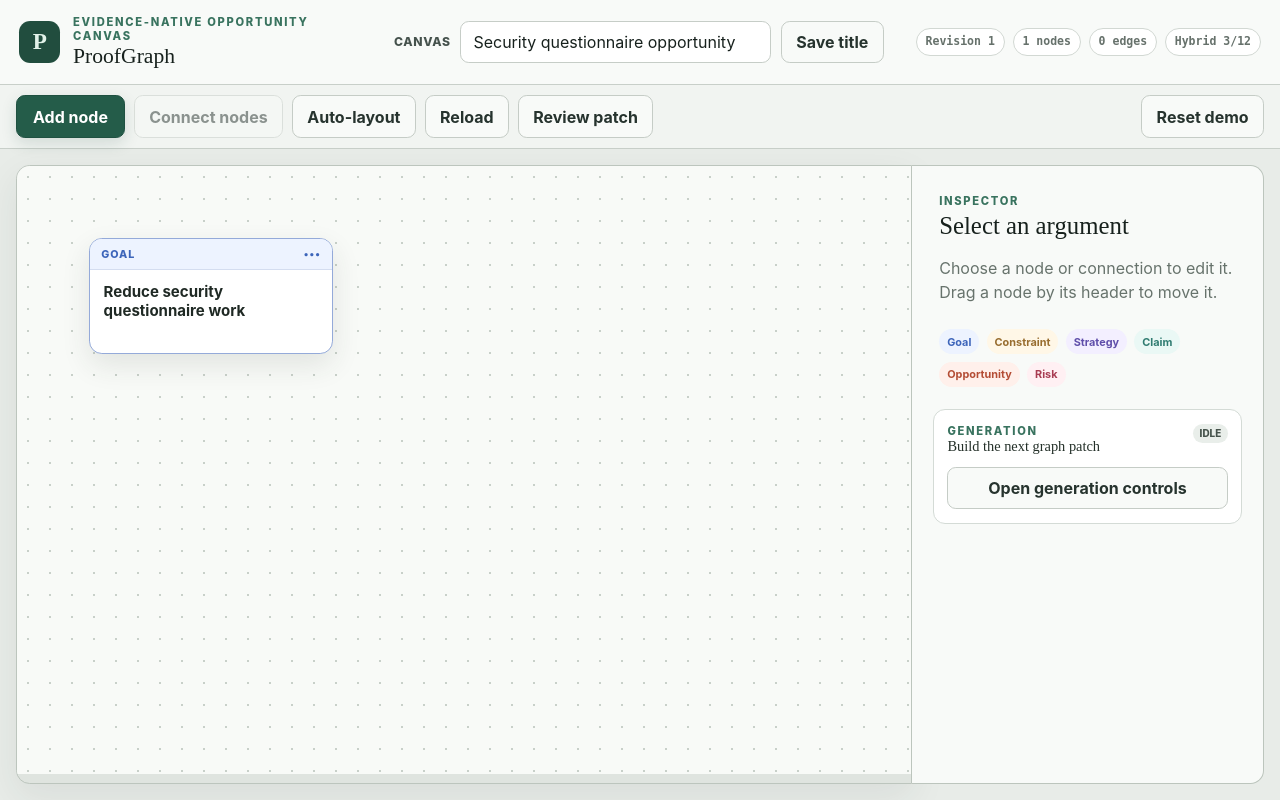
it: App › opens the isolated seeded demo and resets only through the demo endpoint
The image size is (1280, 800).
Check: the field showing "Security questionnaire opportunity" is shown, box 460,20 -> 771,63
Check: the text "Hybrid 3/12" is shown, box 1165,28 -> 1261,56
Click the button "Reset demo".
click(1203, 117)  # box 1141,95 -> 1264,138
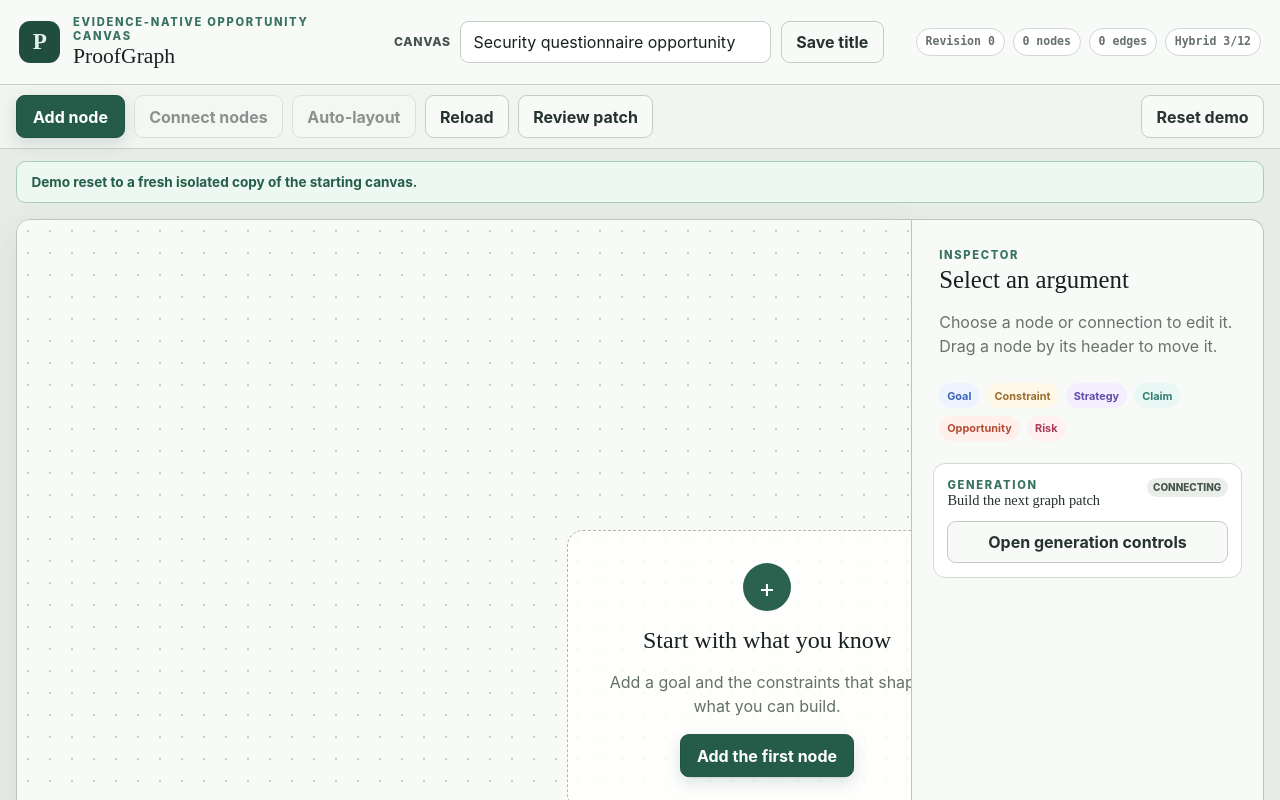
Check: the field showing "Security questionnaire opportunity" is shown, box 460,20 -> 771,63
Check: the text "Demo reset to a fresh isolated copy of the starting canvas." is shown, box 16,161 -> 1264,203
